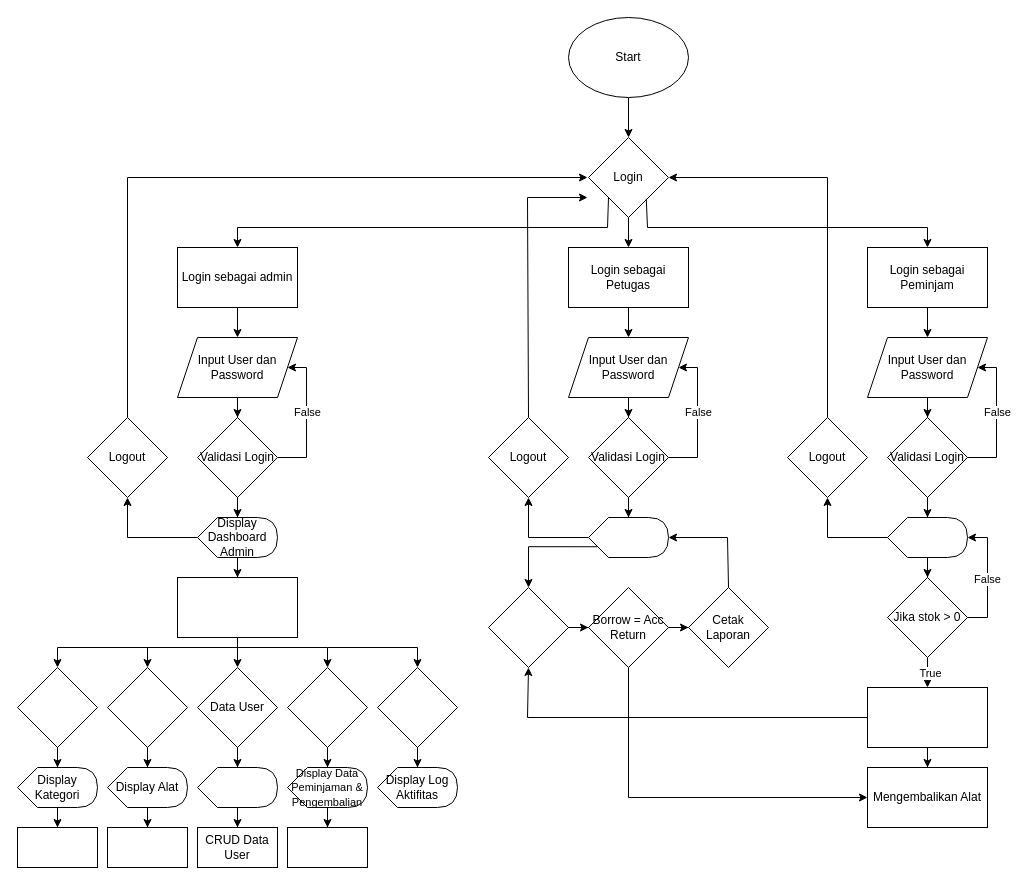
Image size: 1028x886. Some labels were removed from this diagram. Here are the shapes that lost their labels. From the top down, the centre of each, then its label:
At point 628,537: "Display Petugas".
At point 927,537: "Display Peminjam".
At point 237,607: "Pilih Menu".
At point 528,627: "Status Pending = Acc".
At point 57,707: "Data Kategori".
At point 147,707: "Data Alat".
At point 327,707: "Data Peminjaman & Pengembalian".
At point 417,707: "Log Aktifitas".
At point 927,717: "Mengajukan Peminjaman".
At point 237,787: "Display Data User".
At point 57,847: "CRUD Kategori".
At point 147,847: "CRUD Alat".
At point 327,847: "CRUD Data Peminjaman & Pengembalian".
